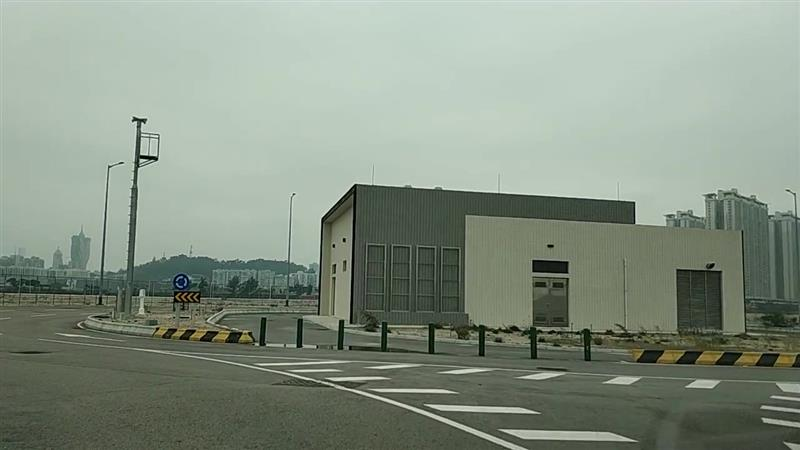roundaboutBlue: (172, 273, 189, 289)
